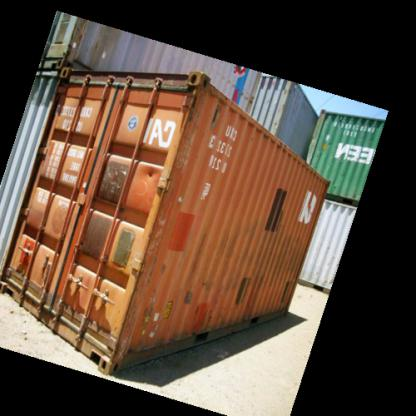Damage: (154, 70, 213, 201), (116, 200, 168, 348), (243, 263, 281, 292), (174, 280, 212, 303)
